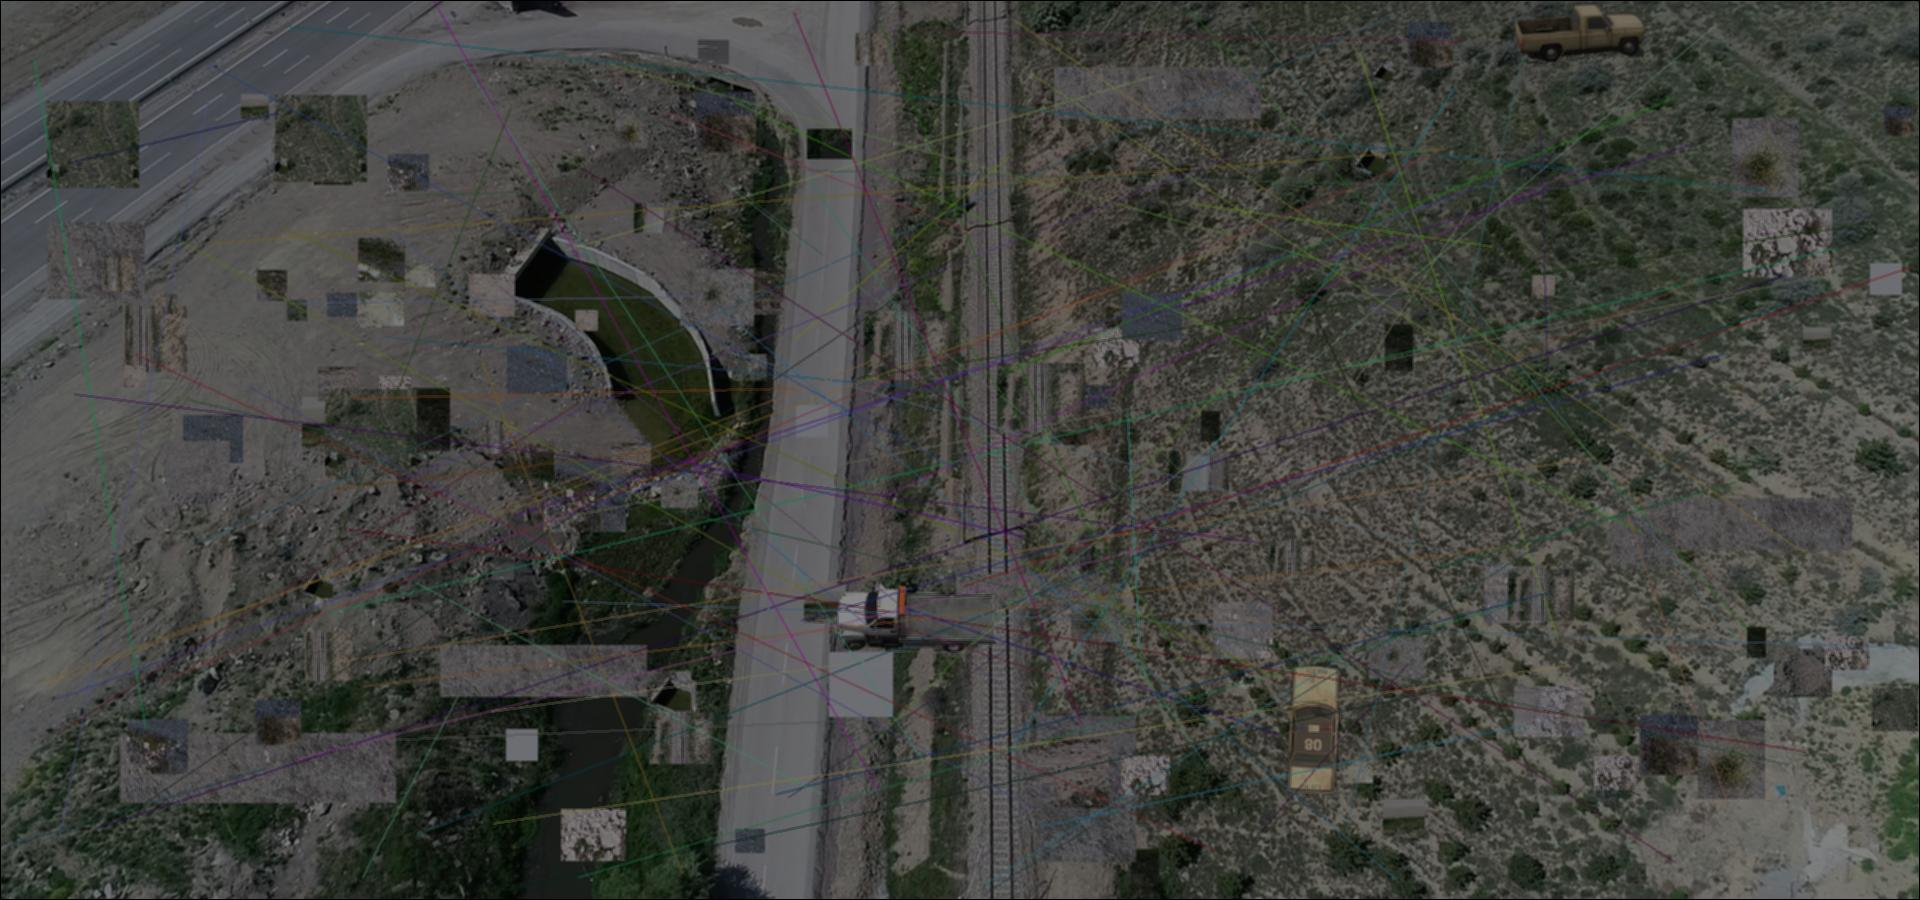arac: (836, 579, 998, 653), (1513, 1, 1648, 67), (1281, 664, 1344, 795)
